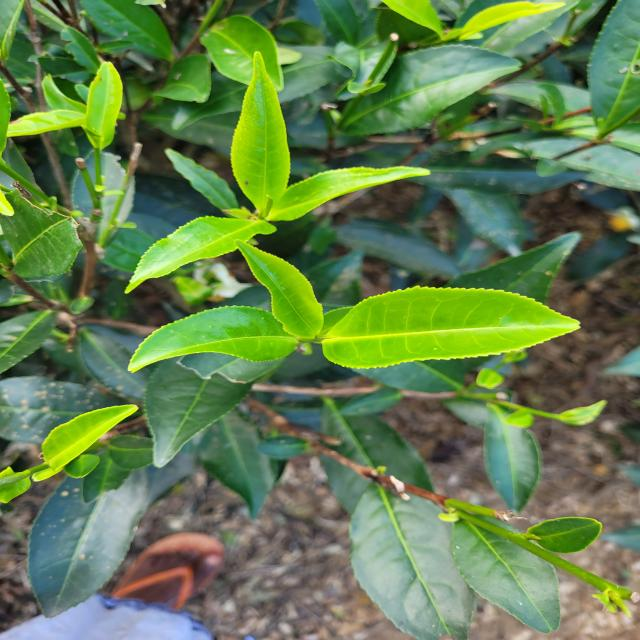Catagory A 1-2 days: (228, 233, 343, 351)
